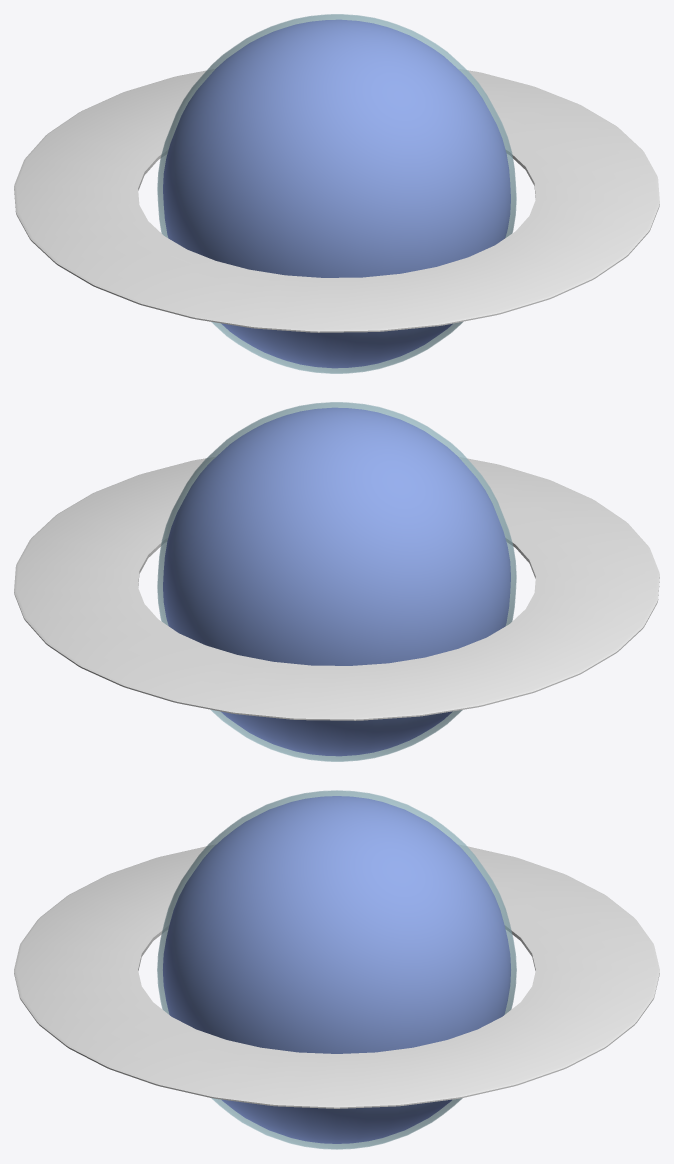
The model's file is Planet.fbx.
The picture shows the model from 3 angles, top to bottom: view 1: azimuth 30°, elevation 25°; view 2: azimuth 150°, elevation 25°; view 3: azimuth 270°, elevation 25°; orthographic projection.
Visible parts, largest first — view 1: glowemissive, Atmosphere, Planet, Anneau; view 2: glowemissive, Atmosphere, Planet, Anneau; view 3: glowemissive, Atmosphere, Planet, Anneau.
Part boxes in pixels (x1,y1,x2,y2): glowemissive: (157,14,516,373); Atmosphere: (158,15,515,372); Planet: (163,19,510,368); Anneau: (14,69,659,332); glowemissive: (157,402,516,761); Atmosphere: (158,403,515,760); Planet: (163,407,510,756); Anneau: (14,457,659,720); glowemissive: (157,790,516,1149); Atmosphere: (158,791,515,1148); Planet: (163,796,510,1143); Anneau: (14,845,659,1108).
Bounding box in the file's own units: 742 × 742 × 413.
